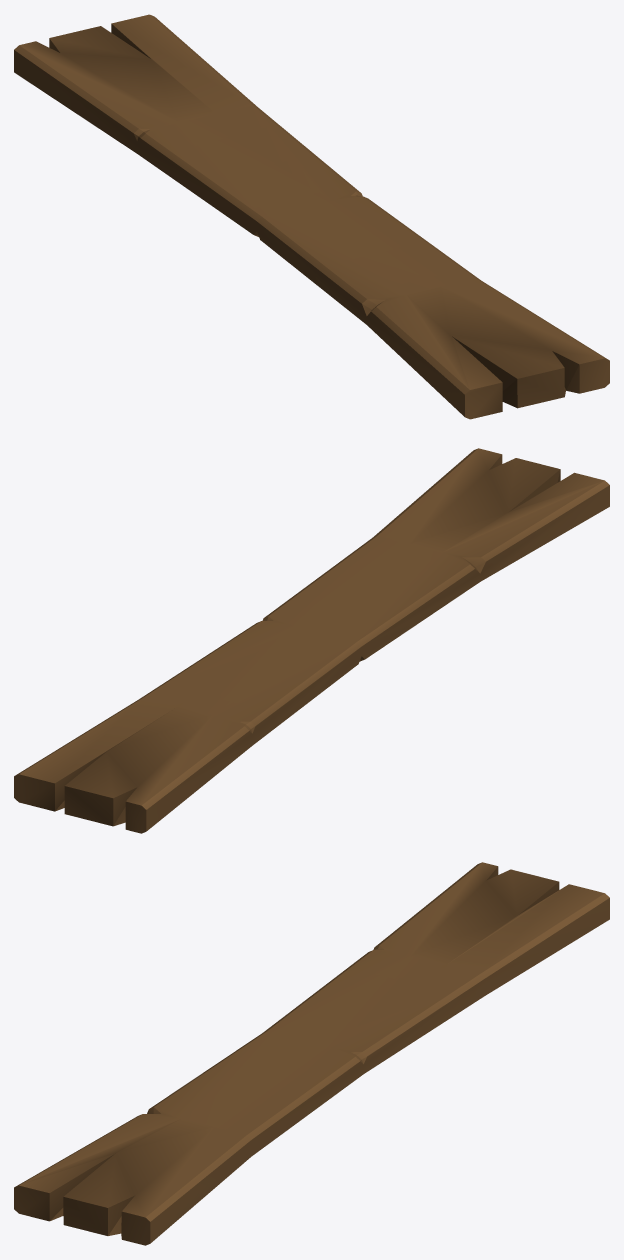
File: obj_woodPiece_B.FBX
3 views of the same model, one above another, from view 1: azimuth 30°, elevation 25°; view 2: azimuth 150°, elevation 25°; view 3: azimuth 330°, elevation 25° (orthographic). The views are drawn at different scales.
Parts seen in each view (by area): view 1: obj_woodPiece_B; view 2: obj_woodPiece_B; view 3: obj_woodPiece_B.
Boxes of the visible parts, <box> form: obj_woodPiece_B: <box>14,14,609,419</box>; obj_woodPiece_B: <box>14,448,609,833</box>; obj_woodPiece_B: <box>14,862,609,1245</box>.
Bounding box in the file's own units: 0.9146 × 0.171 × 4.77.
